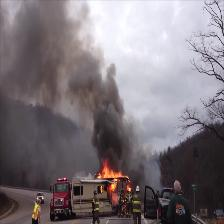fire: (100, 168, 125, 179)
smoke: (13, 21, 76, 81), (91, 91, 120, 153)
